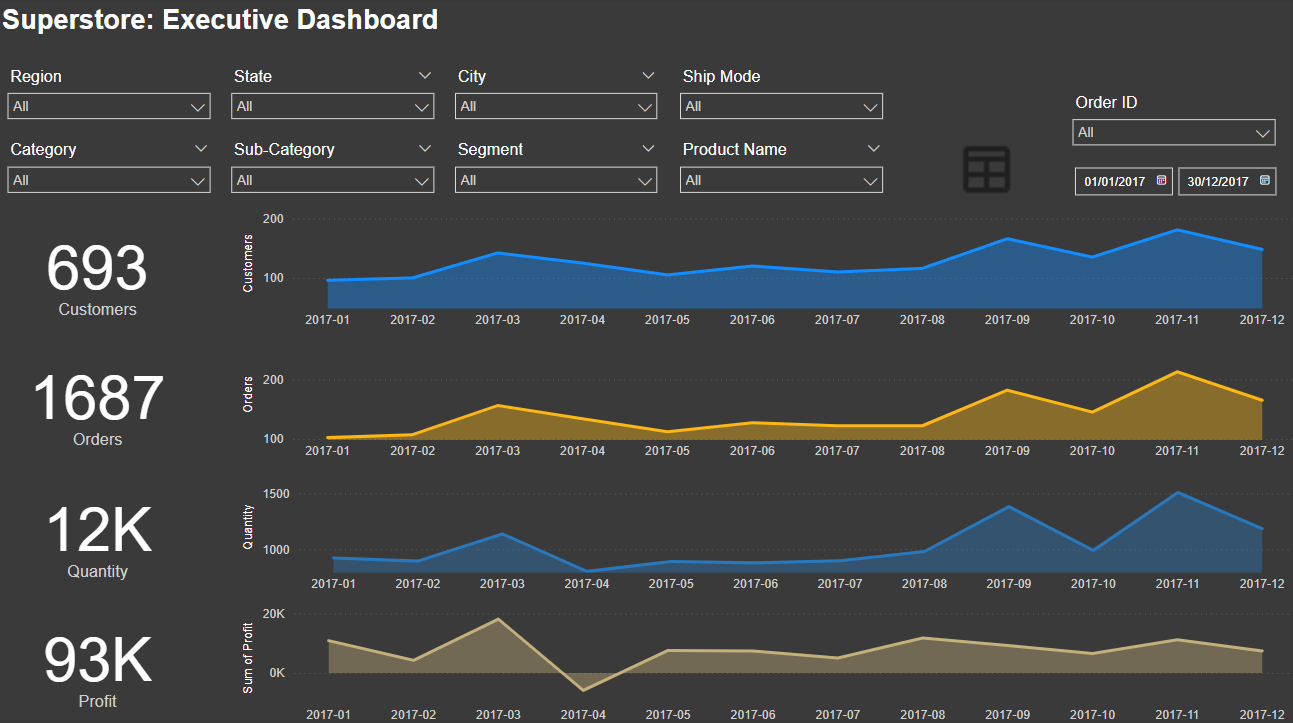

The page's visual inventory and layout, read from the dashboard file:
{"tool":"powerbi","page":{"name":"Executive Dashboard","canvas":[1280,720],"ordinal":0},"visuals":[{"type":"card","fields":{"Values":["Sum(Superstore_Data.Profit)"]},"box":[0,590.8,197.8,128.7],"z":0},{"type":"slicer","fields":{"Values":["Superstore_Data.Region"]},"box":[0,64.2,219.4,67],"z":1000},{"type":"textbox","box":[0,2.8,1279.7,42.9],"z":2000},{"type":"slicer","fields":{"Values":["Superstore_Data.Order Date"]},"box":[1044.8,156.5,235.5,46.8],"z":3000},{"type":"areaChart","fields":{"Category":["DateTable.YearMonth"],"Y":["Sum(Superstore_Data.Profit)"]},"box":[236.4,590.9,1043.7,129.4],"z":4000},{"type":"card","fields":{"Values":["Sum(Superstore_Data.Quantity)"]},"box":[0,462.1,197.8,128.7],"z":5000},{"type":"areaChart","fields":{"Category":["DateTable.YearMonth"],"Y":["Sum(Superstore_Data.Quantity)"]},"box":[236.8,462,1043.5,129.8],"z":7000},{"type":"areaChart","fields":{"Category":["DateTable.YearMonth"],"Y":["Count(Superstore_Data.Customer ID)"]},"box":[236.4,204,1043.7,129.4],"z":8000},{"type":"card","fields":{"Values":["Count(Superstore_Data.Customer ID)"]},"box":[0,204.8,197.8,128.7],"z":9000},{"type":"card","fields":{"Values":["Count(Superstore_Data.Order ID)"]},"box":[0,332,197.8,130],"z":10000},{"type":"areaChart","fields":{"Category":["DateTable.YearMonth"],"Y":["Count(Superstore_Data.Order ID)"]},"box":[236.4,332.1,1043.7,129.4],"z":11000},{"type":"slicer","fields":{"Values":["Superstore_Data.State"]},"box":[219.6,64,219.6,67.5],"z":12000},{"type":"slicer","fields":{"Values":["Superstore_Data.City"]},"box":[439.3,64,219,67],"z":13000},{"type":"slicer","fields":{"Values":["Superstore_Data.Ship Mode"]},"box":[660.1,64,219.6,67.5],"z":14000},{"type":"slicer","fields":{"Values":["Superstore_Data.Segment"]},"box":[439.3,136,219,67],"z":15000},{"type":"slicer","fields":{"Values":["Superstore_Data.Category"]},"box":[0,136.5,219.4,67],"z":16000},{"type":"slicer","fields":{"Values":["Superstore_Data.Sub-Category"]},"box":[219.6,136,219.6,67.5],"z":17000},{"type":"slicer","fields":{"Values":["Superstore_Data.Product Name"]},"box":[660.1,136,219.6,67.5],"z":18000},{"type":"image","box":[936.6,130,70.6,78.9],"z":18001},{"type":"slicer","fields":{"Values":["Superstore_Data.Order ID"]},"box":[1044.8,89.8,219.3,67.4],"z":18003}]}

Visuals, with their boxes in screenshot pixels (x1, y1, x2, y2), scaled from the page's 1280x720 canvas onto the 1293x723 screenshot:
card - Sum(Superstore_Data.Profit): {"left": 0, "top": 593, "right": 200, "bottom": 722}
slicer - Superstore_Data.Region: {"left": 0, "top": 64, "right": 222, "bottom": 132}
textbox: {"left": 0, "top": 3, "right": 1292, "bottom": 46}
slicer - Superstore_Data.Order Date: {"left": 1055, "top": 157, "right": 1292, "bottom": 204}
areaChart - DateTable.YearMonth x Sum(Superstore_Data.Profit): {"left": 239, "top": 593, "right": 1292, "bottom": 722}
card - Sum(Superstore_Data.Quantity): {"left": 0, "top": 464, "right": 200, "bottom": 593}
areaChart - DateTable.YearMonth x Sum(Superstore_Data.Quantity): {"left": 239, "top": 464, "right": 1292, "bottom": 594}
areaChart - DateTable.YearMonth x Count(Superstore_Data.Customer ID): {"left": 239, "top": 205, "right": 1292, "bottom": 335}
card - Count(Superstore_Data.Customer ID): {"left": 0, "top": 206, "right": 200, "bottom": 335}
card - Count(Superstore_Data.Order ID): {"left": 0, "top": 333, "right": 200, "bottom": 464}
areaChart - DateTable.YearMonth x Count(Superstore_Data.Order ID): {"left": 239, "top": 333, "right": 1292, "bottom": 463}
slicer - Superstore_Data.State: {"left": 222, "top": 64, "right": 444, "bottom": 132}
slicer - Superstore_Data.City: {"left": 444, "top": 64, "right": 665, "bottom": 132}
slicer - Superstore_Data.Ship Mode: {"left": 667, "top": 64, "right": 889, "bottom": 132}
slicer - Superstore_Data.Segment: {"left": 444, "top": 137, "right": 665, "bottom": 204}
slicer - Superstore_Data.Category: {"left": 0, "top": 137, "right": 222, "bottom": 204}
slicer - Superstore_Data.Sub-Category: {"left": 222, "top": 137, "right": 444, "bottom": 204}
slicer - Superstore_Data.Product Name: {"left": 667, "top": 137, "right": 889, "bottom": 204}
image: {"left": 946, "top": 131, "right": 1017, "bottom": 210}
slicer - Superstore_Data.Order ID: {"left": 1055, "top": 90, "right": 1277, "bottom": 158}
